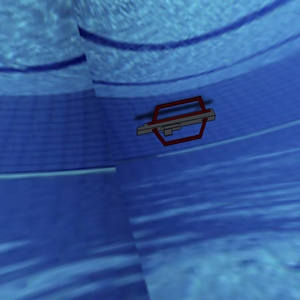submarine: (125, 85, 234, 167)
